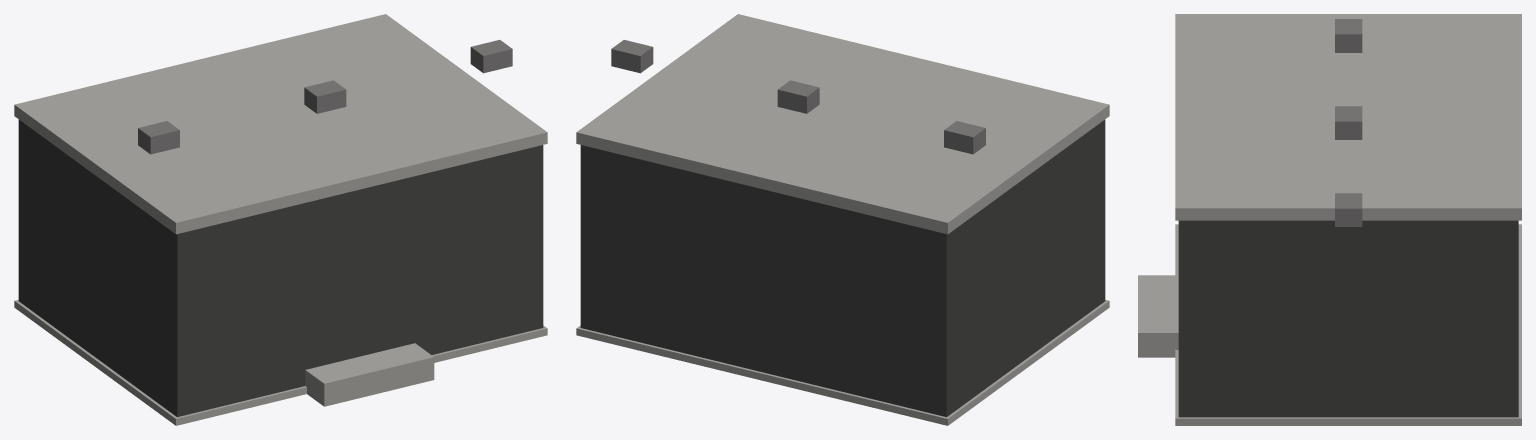
Rendered from b_ware2.glb.
3 renders of one model, left to right at view 1: azimuth 30°, elevation 25°; view 2: azimuth 150°, elevation 25°; view 3: azimuth 270°, elevation 25°, orthographic. The views are drawn at different scales.
Parts seen in each view (by area): view 1: Building; view 2: Building; view 3: Building.
Part boxes in pixels (x1,y1,x2,y2): Building: [14, 14, 547, 425]; Building: [576, 14, 1109, 425]; Building: [1138, 14, 1521, 425].
Bounding box in the file's own units: 22.47 × 11.6 × 16.95.
4 materials, 2 textured.
